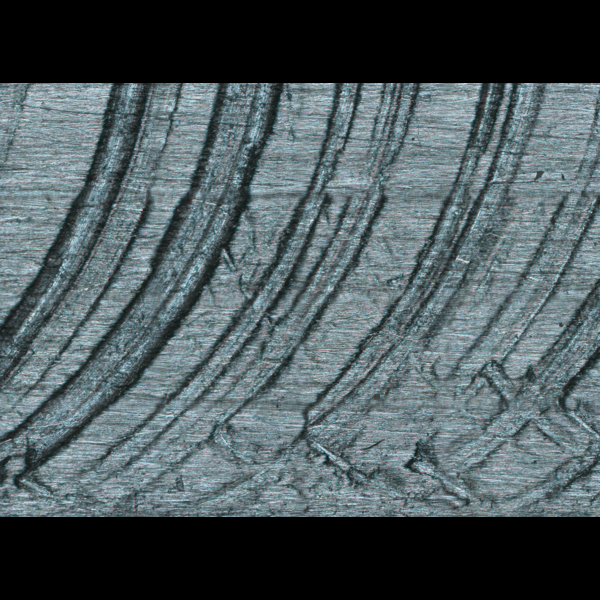d: (4, 88, 600, 516)
